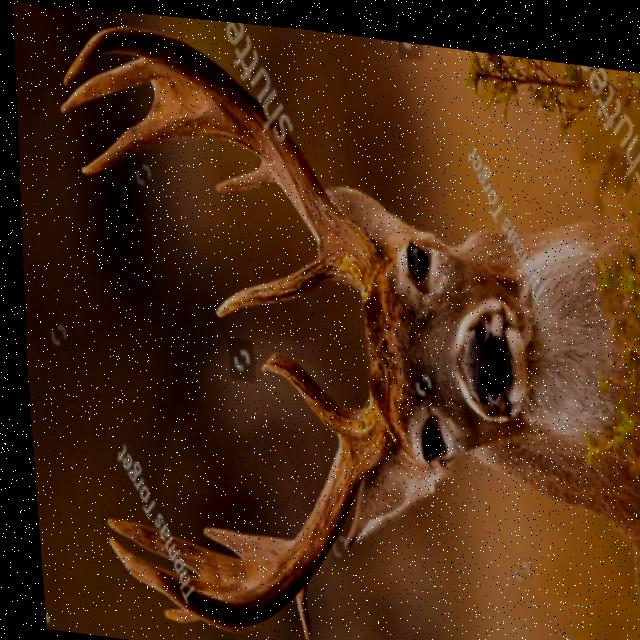E1: (285, 579, 299, 636)
L-F: (60, 25, 374, 289)
L-G1: (209, 247, 330, 315)
L-G2: (210, 155, 274, 190)
L-G3: (77, 100, 187, 174)
L-G4: (57, 56, 149, 114)
R-F: (99, 388, 384, 630)
R-G1: (253, 347, 344, 432)
